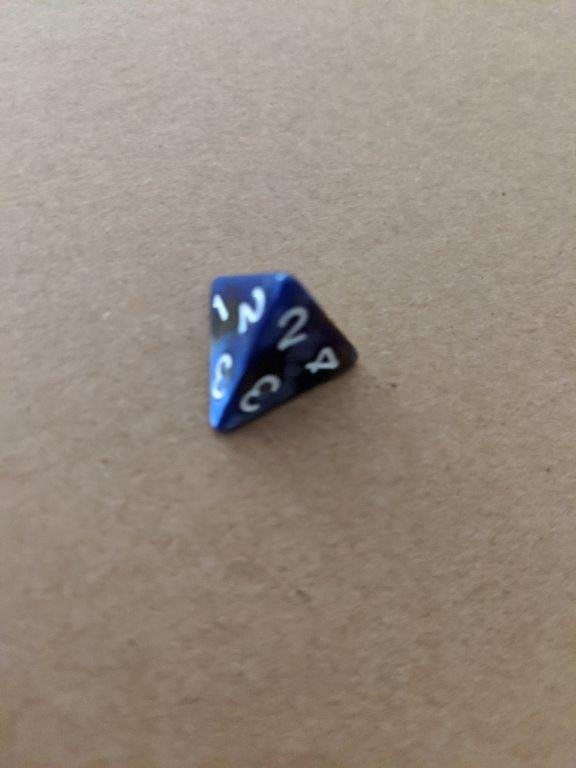d4-2: (203, 267, 360, 438)
